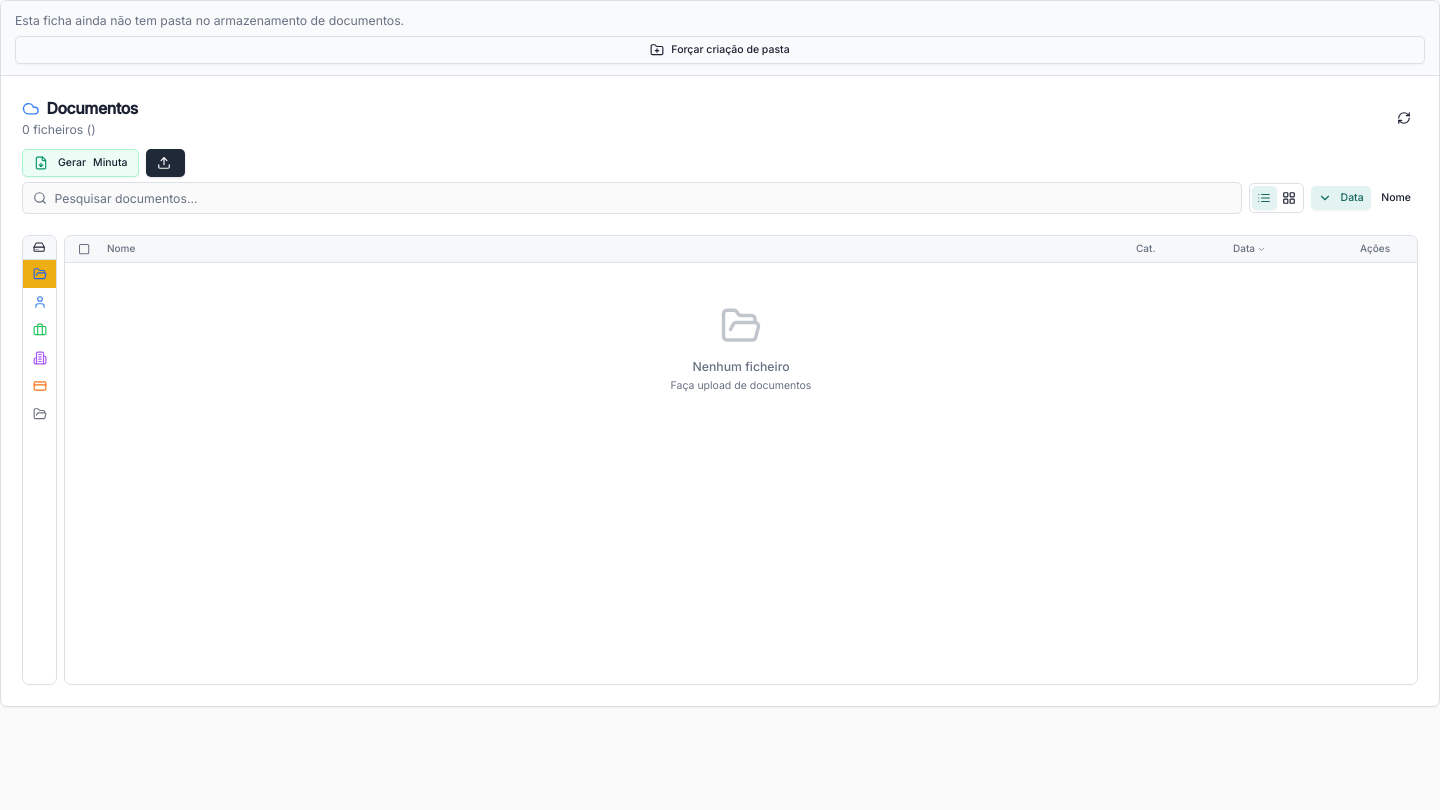
Test: S3FileManager — «Forçar criação de pasta» (Lote 6) › sem resposta (ligação cortada) também se diz, em vez de um botão mudo
Click the button with test id "forcar-pasta-s3-btn". click: (720,50)
box: x1=15 y1=36 x2=1425 y2=64
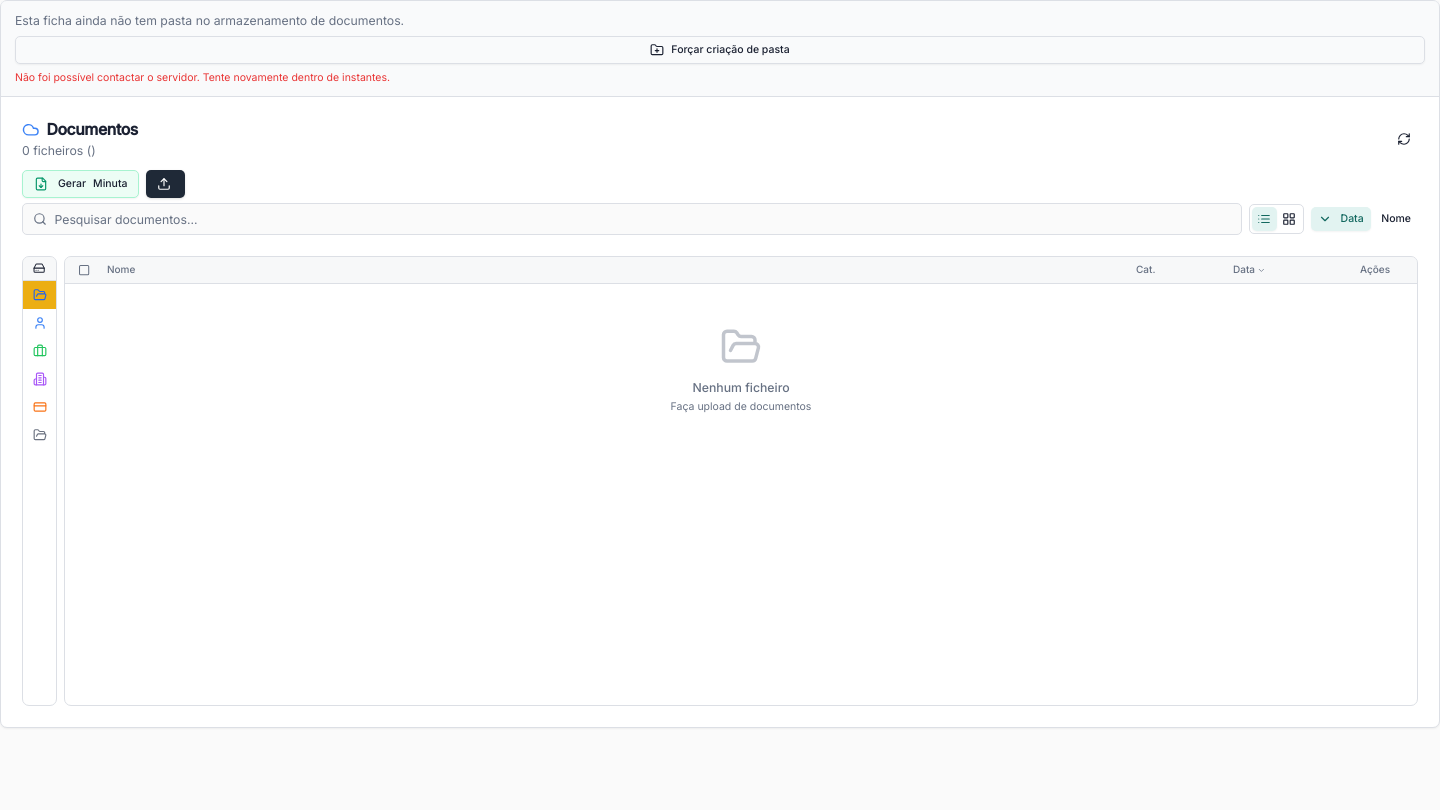
Now the message with test id "forcar-pasta-s3-erro" shows "contactar o servidor", box x1=15 y1=71 x2=390 y2=84
